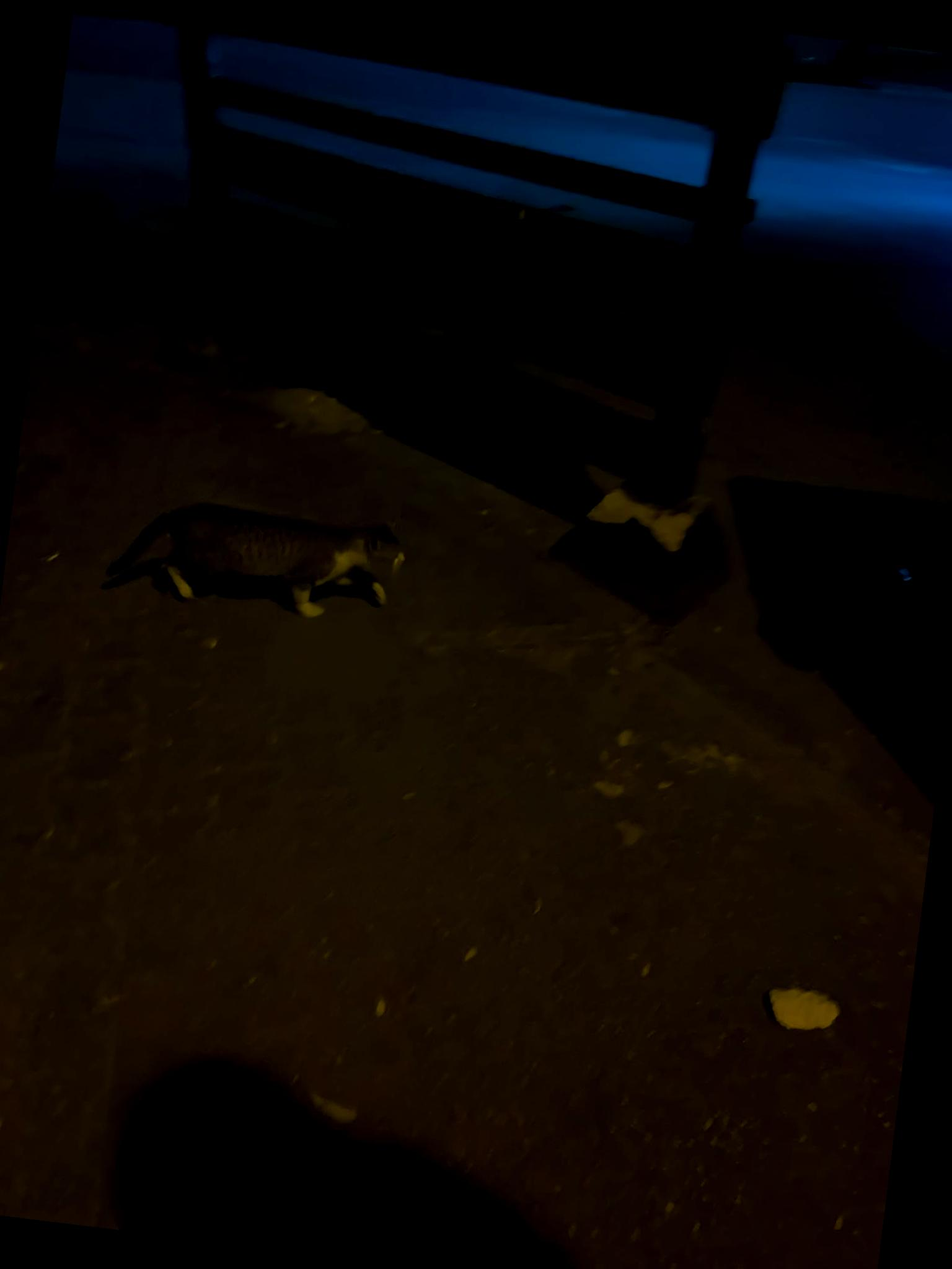macka: (101, 482, 411, 629)
